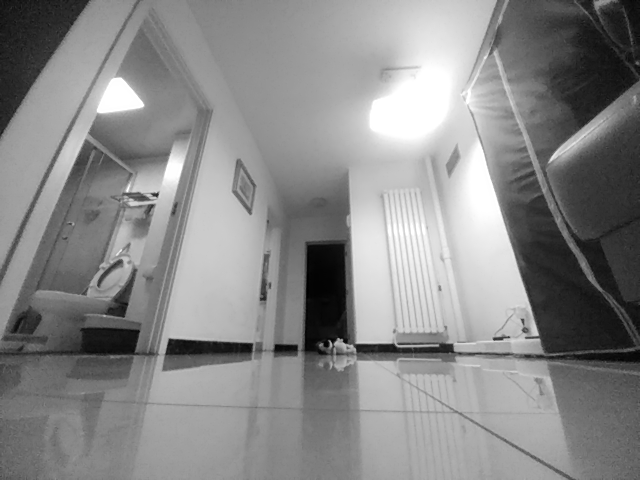toy: (315, 337, 358, 356)
